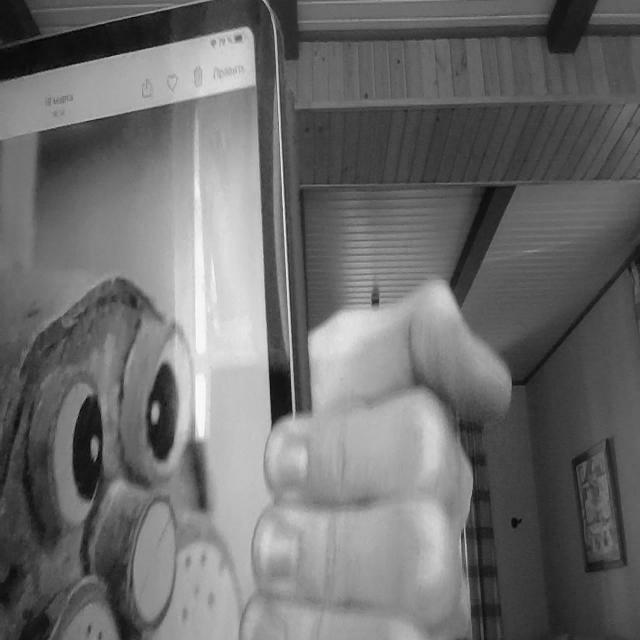fake: (2, 21, 292, 640)
